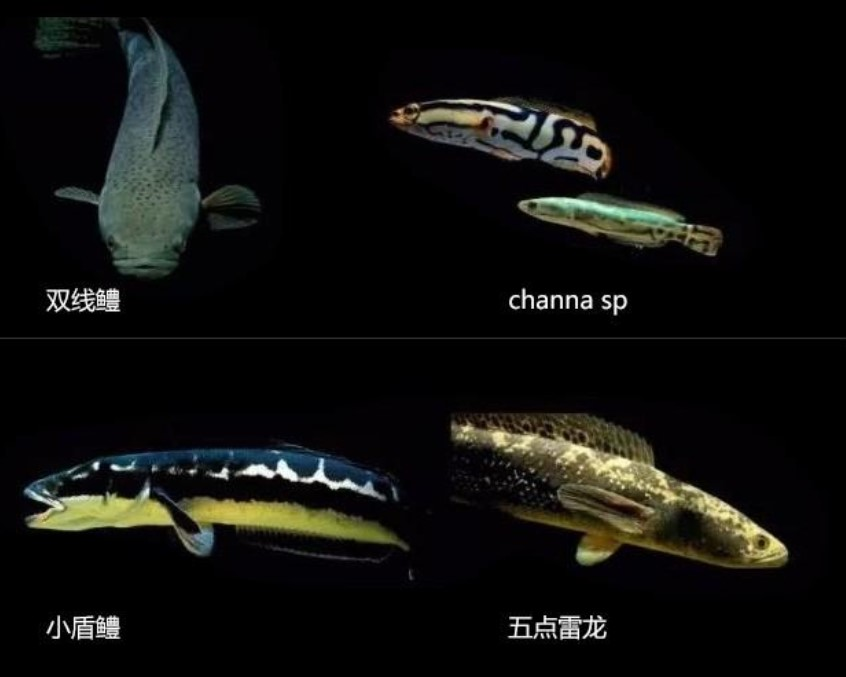Fish: (438, 397, 822, 593), (26, 5, 280, 296), (16, 415, 430, 584), (374, 64, 636, 183), (499, 189, 762, 283)
